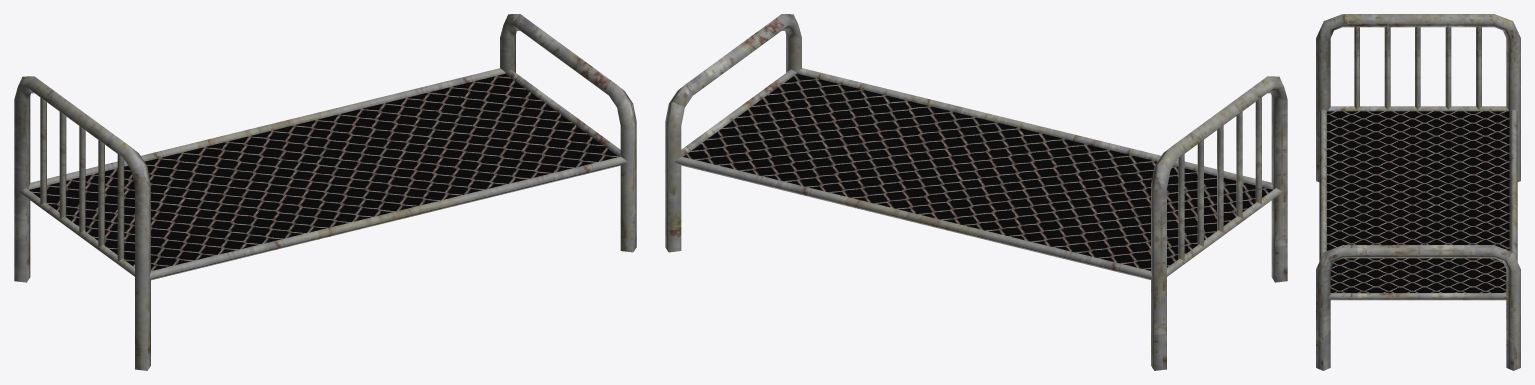
Rendered from _Bed_1_3.FBX.
The picture shows the model from 3 angles, left to right: view 1: azimuth 30°, elevation 25°; view 2: azimuth 150°, elevation 25°; view 3: azimuth 270°, elevation 25°; orthographic projection. The views are drawn at different scales.
Visible parts, largest first — view 1: _Bed_1_3; view 2: _Bed_1_3; view 3: _Bed_1_3.
Boxes of the visible parts, <box> form: _Bed_1_3: <box>14,14,636,370</box>; _Bed_1_3: <box>665,14,1287,370</box>; _Bed_1_3: <box>1316,14,1520,370</box>.
Size of the model in its own units: 187 by 75.31 by 83.77.
2 materials, 2 textured.
